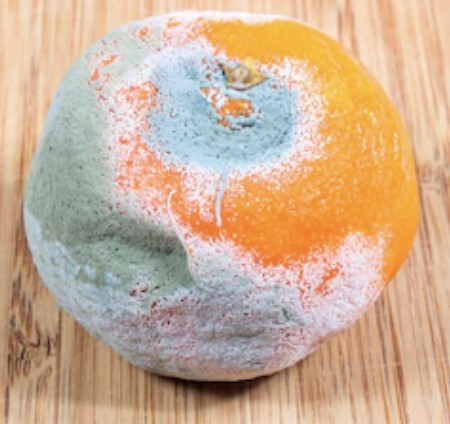rotten_orange: (24, 9, 420, 381)
